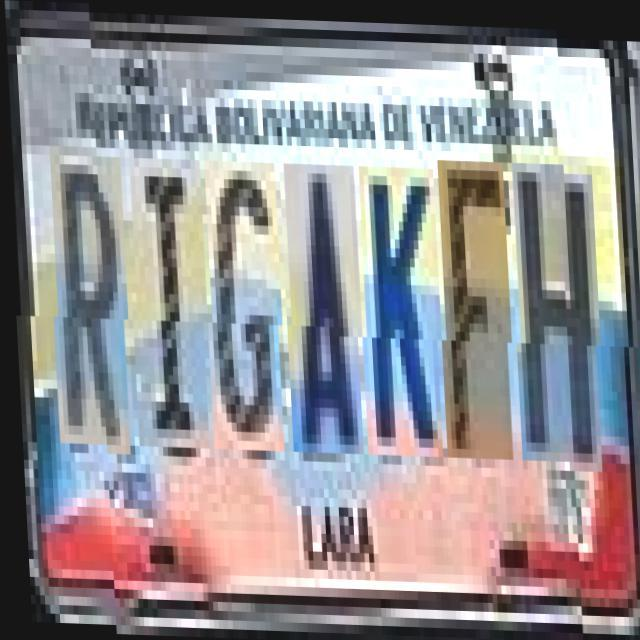A: (282, 161, 364, 452)
F: (436, 157, 514, 456)
G: (202, 158, 284, 450)
H: (510, 159, 602, 459)
I: (128, 156, 210, 448)
K: (357, 163, 442, 454)
R: (48, 154, 130, 454)
